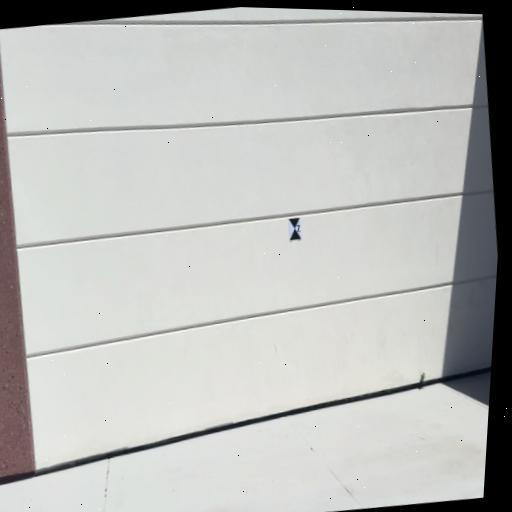target7: (289, 218, 302, 240)
